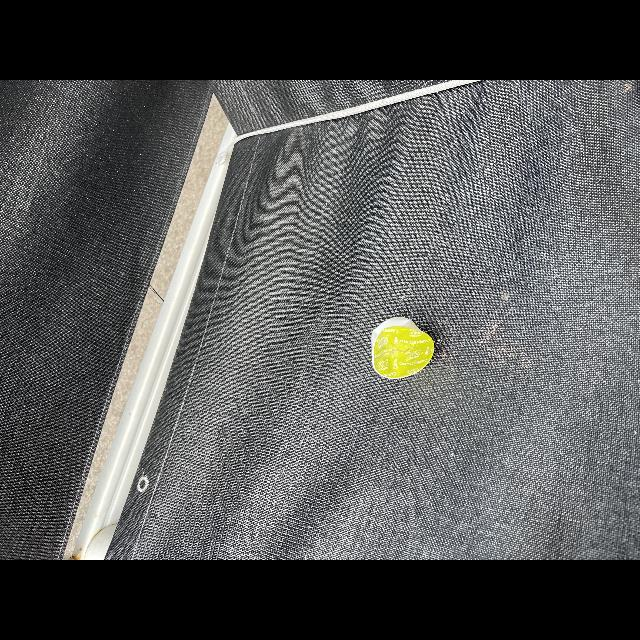damaged_capsule: (360, 308, 444, 386)
